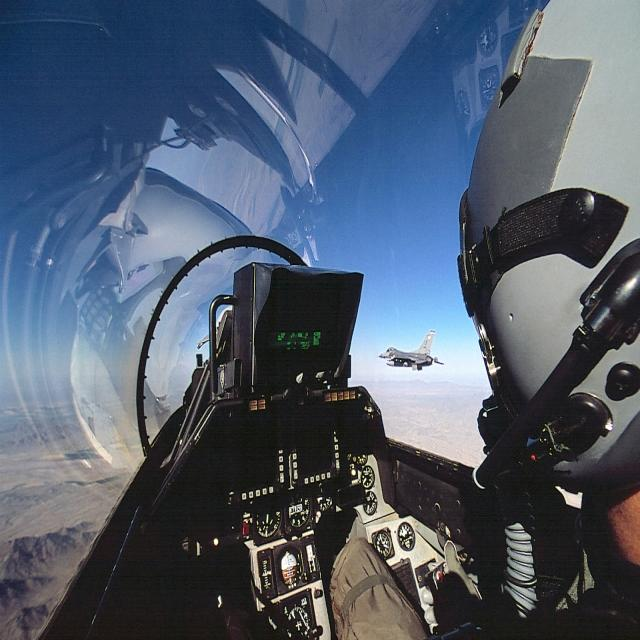MIL_Plane: (377, 330, 445, 371)
